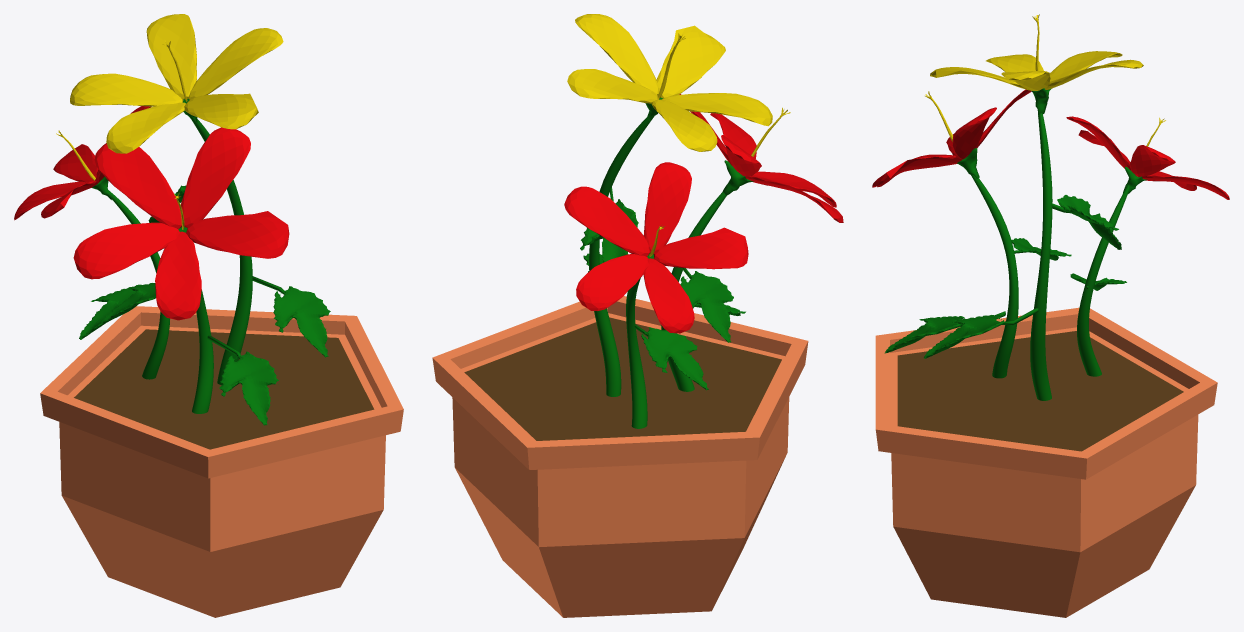
Rendered from San Joaquin.fbx.
The picture shows the model from 3 angles, left to right: view 1: azimuth 30°, elevation 25°; view 2: azimuth 150°, elevation 25°; view 3: azimuth 270°, elevation 25°; orthographic projection. The views are drawn at different scales.
Visible parts, largest first — view 1: Dirt.004; view 2: Dirt.004; view 3: Dirt.004.
Boxes of the visible parts, bbox=[...] form: Dirt.004: bbox=[14, 14, 403, 617]; Dirt.004: bbox=[432, 14, 843, 617]; Dirt.004: bbox=[872, 14, 1229, 617].
Size of the model in its own units: 147 by 224 by 137.
